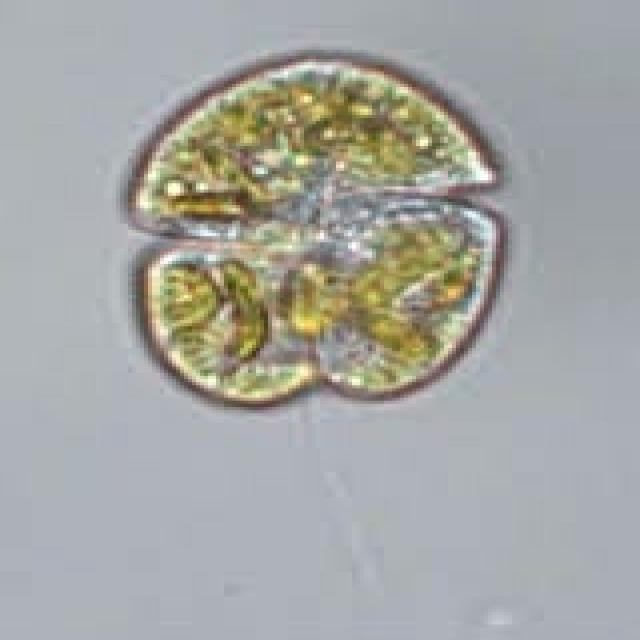Karenia: (112, 55, 523, 413)
